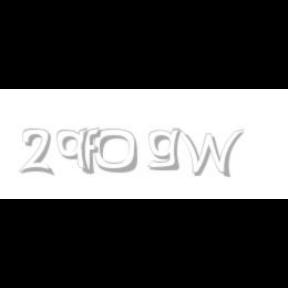2: (18, 128, 52, 176)
O: (94, 128, 138, 174)
W: (172, 128, 244, 178)
f: (81, 128, 105, 174)
g: (147, 128, 184, 171)
q: (56, 128, 92, 176)
